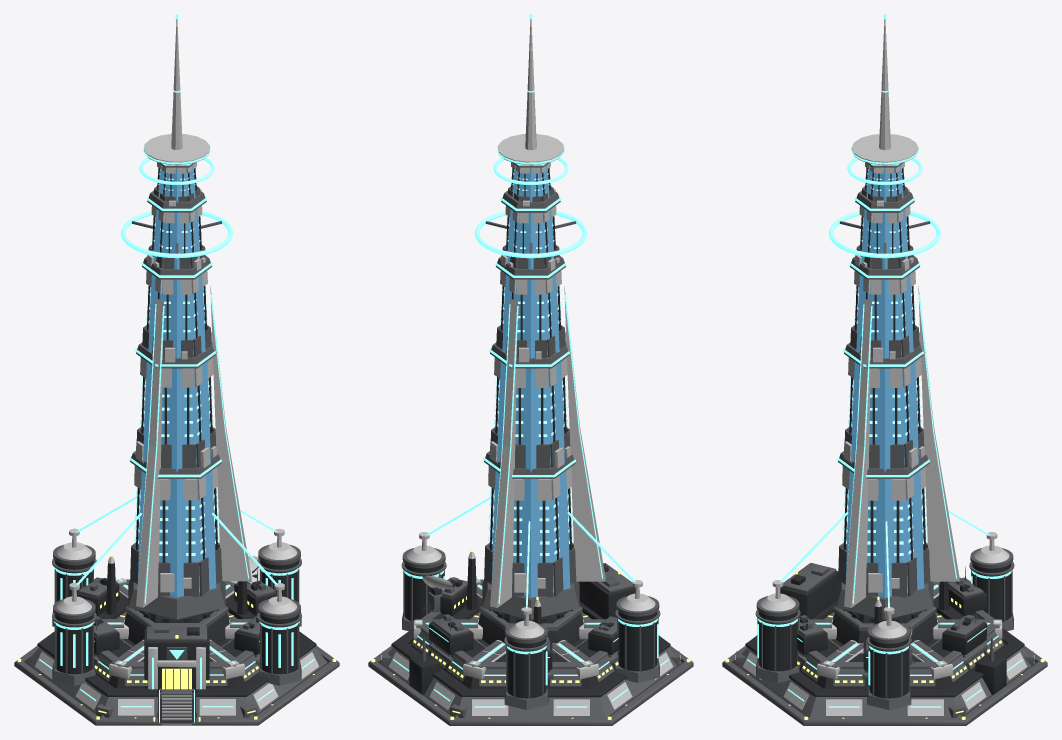
File: sb_command_t2.glb
The picture shows the model from 3 angles, left to right: view 1: azimuth 30°, elevation 25°; view 2: azimuth 150°, elevation 25°; view 3: azimuth 270°, elevation 25°; orthographic projection.
Visible parts, largest first — view 1: SM_CC_BODY, SM_CC2_TOWER, SM_CC2_BLADES, SM_CC2_TOWER_PLATES, SM_CC2_TOWER_PLATES_HI, SM_CC_LIGHTS, SM_CC2_TOWER_MULLIONS, SM_CC2_TOWER_COLLARS, SM_CC2_CROWN, SM_CC2_PODIUM, SM_CC2_TOWER_WINDOWS, SM_CC2_BLADE_GLOW (+5 smaller); view 2: SM_CC_BODY, SM_CC2_TOWER, SM_CC2_BLADES, SM_CC2_TOWER_PLATES, SM_CC2_TOWER_PLATES_HI, SM_CC2_TOWER_MULLIONS, SM_CC2_TOWER_COLLARS, SM_CC2_CROWN, SM_CC_LIGHTS, SM_CC2_PODIUM, SM_CC2_TOWER_WINDOWS, SM_CC2_BLADE_GLOW (+4 smaller); view 3: SM_CC_BODY, SM_CC2_TOWER, SM_CC2_BLADES, SM_CC2_TOWER_PLATES, SM_CC2_TOWER_PLATES_HI, SM_CC2_TOWER_MULLIONS, SM_CC2_TOWER_COLLARS, SM_CC2_CROWN, SM_CC_LIGHTS, SM_CC2_PODIUM, SM_CC2_BLADE_GLOW, SM_CC2_TOWER_WINDOWS (+4 smaller).
Part boxes in pixels (<box>): SM_CC_BODY: <box>14,542,339,725</box>; SM_CC2_TOWER: <box>137,165,216,597</box>; SM_CC2_BLADES: <box>136,286,251,607</box>; SM_CC2_TOWER_PLATES: <box>130,186,222,596</box>; SM_CC2_TOWER_PLATES_HI: <box>134,162,218,500</box>; SM_CC_LIGHTS: <box>17,553,336,722</box>; SM_CC2_TOWER_MULLIONS: <box>136,168,217,562</box>; SM_CC2_TOWER_COLLARS: <box>130,162,221,478</box>; SM_CC2_CROWN: <box>144,19,209,165</box>; SM_CC2_PODIUM: <box>128,579,225,619</box>; SM_CC2_TOWER_WINDOWS: <box>134,169,219,555</box>; SM_CC2_BLADE_GLOW: <box>138,290,249,603</box>; SM_CC_BODY: <box>368,545,693,725</box>; SM_CC2_TOWER: <box>491,165,570,597</box>; SM_CC2_BLADES: <box>490,286,605,607</box>; SM_CC2_TOWER_PLATES: <box>484,186,576,597</box>; SM_CC2_TOWER_PLATES_HI: <box>488,162,572,500</box>; SM_CC2_TOWER_MULLIONS: <box>490,168,571,562</box>; SM_CC2_TOWER_COLLARS: <box>484,162,575,478</box>; SM_CC2_CROWN: <box>497,19,563,165</box>; SM_CC_LIGHTS: <box>371,549,690,719</box>; SM_CC2_PODIUM: <box>482,579,579,619</box>; SM_CC2_TOWER_WINDOWS: <box>488,169,573,555</box>; SM_CC2_BLADE_GLOW: <box>492,290,603,603</box>; SM_CC_BODY: <box>722,545,1047,725</box>; SM_CC2_TOWER: <box>845,165,924,597</box>; SM_CC2_BLADES: <box>844,286,959,607</box>; SM_CC2_TOWER_PLATES: <box>838,186,930,597</box>; SM_CC2_TOWER_PLATES_HI: <box>842,162,926,500</box>; SM_CC2_TOWER_MULLIONS: <box>844,168,925,562</box>; SM_CC2_TOWER_COLLARS: <box>838,162,929,478</box>; SM_CC2_CROWN: <box>851,19,918,165</box>; SM_CC_LIGHTS: <box>725,570,1044,719</box>; SM_CC2_PODIUM: <box>836,579,933,619</box>; SM_CC2_BLADE_GLOW: <box>846,290,957,603</box>; SM_CC2_TOWER_WINDOWS: <box>842,169,927,555</box>.
Bounding box in the file's own units: 49.05 × 121 × 54.5.
